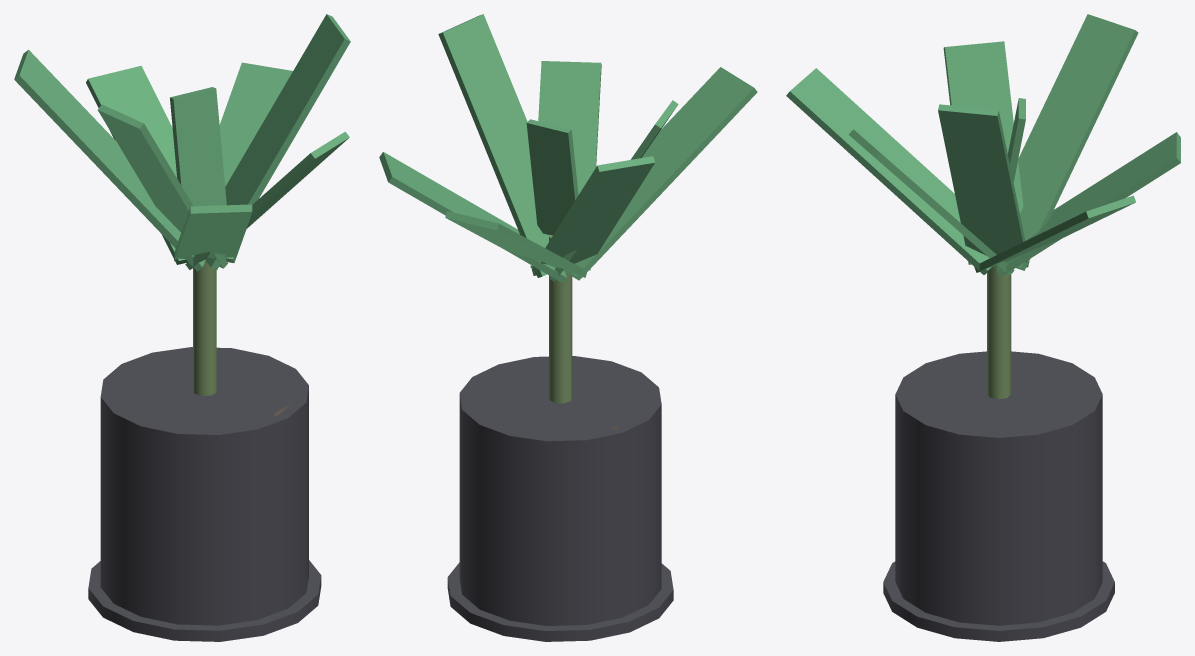
The model's file is bb_set_plant.fbx.
3 views of the same model, side by side, from view 1: azimuth 30°, elevation 25°; view 2: azimuth 150°, elevation 25°; view 3: azimuth 270°, elevation 25° (orthographic). The views are drawn at different scales.
Parts seen in each view (by area): view 1: bb_set_plant; view 2: bb_set_plant; view 3: bb_set_plant.
Part boxes in pixels (x1,y1,x2,y2): bb_set_plant: [14, 14, 350, 641]; bb_set_plant: [379, 14, 757, 641]; bb_set_plant: [786, 14, 1180, 641].
Size of the model in its own units: 0.5336 by 0.9802 by 0.6479.
